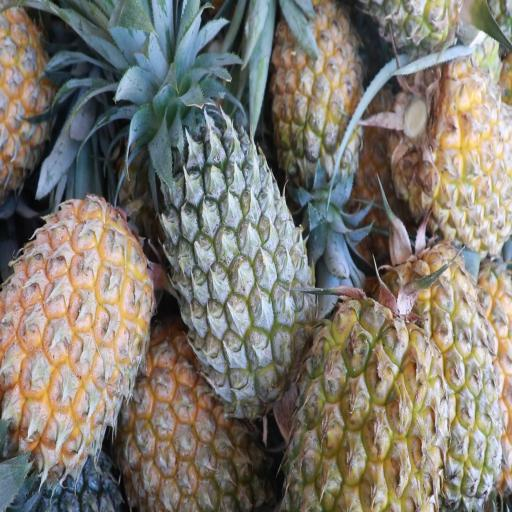------------------------------: (268, 0, 358, 188)
Pineapple - v8 v1: (277, 288, 441, 512), (0, 202, 144, 456), (384, 268, 497, 506), (121, 328, 259, 512), (387, 57, 512, 233)
